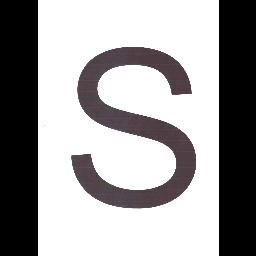s: (61, 40, 201, 214)
